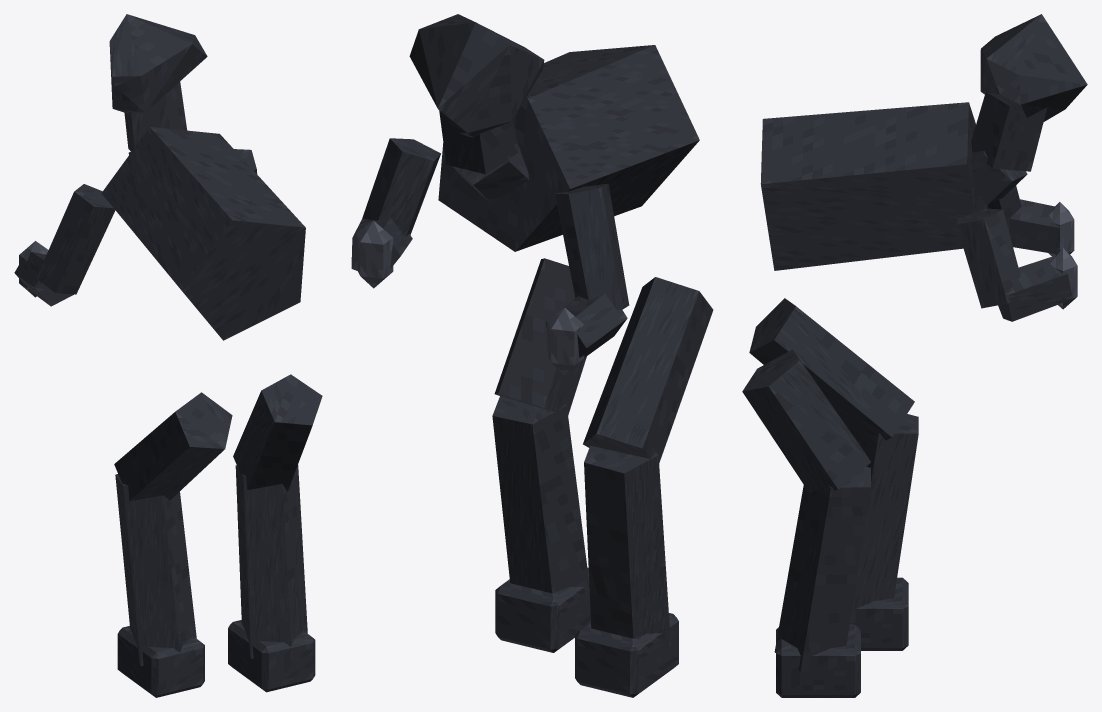
File: f_glassedbody_13.glb
The picture shows the model from 3 angles, left to right: view 1: azimuth 30°, elevation 25°; view 2: azimuth 150°, elevation 25°; view 3: azimuth 270°, elevation 25°; orthographic projection. The views are drawn at different scales.
Visible parts, largest first — view 1: block_angular-torso-1, block_faceted-glass-leg-1 (×2), block_faceted-glass-leg-2 (×2), block_solid-glass-foot (×2), block_angular-black-glass-head, block_angular-glass-arm-1, block_vitrified-neck-2, block_angular-glass-arm-2; view 2: block_faceted-glass-leg-1 (×2), block_angular-torso-1, block_faceted-glass-leg-2 (×2), block_solid-glass-foot (×2), block_angular-glass-arm-1 (×2), block_angular-black-glass-head, block_glass-hand (×2), block_angular-glass-arm-2 (×2), block_vitrified-neck-2, block_vitrified-neck-1; view 3: block_angular-torso-1, block_faceted-glass-leg-1 (×2), block_faceted-glass-leg-2 (×2), block_angular-black-glass-head, block_solid-glass-foot (×2), block_angular-glass-arm-2 (×2), block_angular-glass-arm-1 (×2), block_vitrified-neck-2, block_glass-hand (×2), block_vitrified-neck-1.
Part boxes in pixels (x1=…): block_angular-torso-1: x1=101, y1=127, x2=305, y2=340; block_faceted-glass-leg-1 (×2): x1=115, y1=465, x2=307, y2=665; block_faceted-glass-leg-2 (×2): x1=114, y1=374, x2=322, y2=501; block_solid-glass-foot (×2): x1=117, y1=620, x2=315, y2=697; block_angular-black-glass-head: x1=109, y1=14, x2=207, y2=113; block_angular-glass-arm-1: x1=36, y1=184, x2=115, y2=294; block_vitrified-neck-2: x1=124, y1=81, x2=187, y2=151; block_angular-glass-arm-2: x1=14, y1=252, x2=73, y2=306; block_faceted-glass-leg-1 (×2): x1=492, y1=396, x2=670, y2=648; block_angular-torso-1: x1=438, y1=45, x2=699, y2=251; block_faceted-glass-leg-2 (×2): x1=494, y1=258, x2=713, y2=463; block_solid-glass-foot (×2): x1=495, y1=567, x2=678, y2=697; block_angular-glass-arm-1 (×2): x1=362, y1=138, x2=629, y2=310; block_angular-black-glass-head: x1=409, y1=14, x2=544, y2=137; block_glass-hand (×2): x1=355, y1=221, x2=584, y2=375; block_angular-glass-arm-2 (×2): x1=351, y1=217, x2=627, y2=357; block_vitrified-neck-2: x1=439, y1=111, x2=518, y2=174; block_vitrified-neck-1: x1=453, y1=140, x2=528, y2=203; block_angular-torso-1: x1=760, y1=102, x2=987, y2=270; block_faceted-glass-leg-1 (×2): x1=774, y1=414, x2=918, y2=671; block_faceted-glass-leg-2 (×2): x1=742, y1=298, x2=914, y2=493; block_angular-black-glass-head: x1=980, y1=14, x2=1087, y2=121; block_solid-glass-foot (×2): x1=776, y1=577, x2=908, y2=697; block_angular-glass-arm-2 (×2): x1=998, y1=199, x2=1072, y2=321; block_angular-glass-arm-1 (×2): x1=956, y1=185, x2=1021, y2=308; block_vitrified-neck-2: x1=971, y1=91, x2=1047, y2=171; block_glass-hand (×2): x1=1048, y1=202, x2=1077, y2=309; block_vitrified-neck-1: x1=972, y1=150, x2=1027, y2=204.
Size of the model in its own units: 0.5243 by 1.34 by 0.6459.
Materials: 1 (1 with a texture image).
